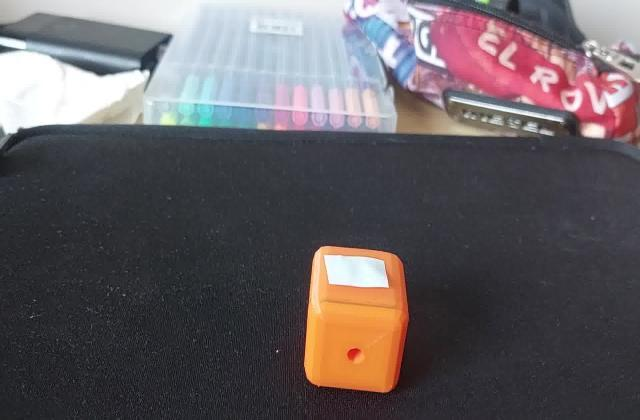cube: (304, 243, 414, 398)
white: (322, 256, 394, 294)
